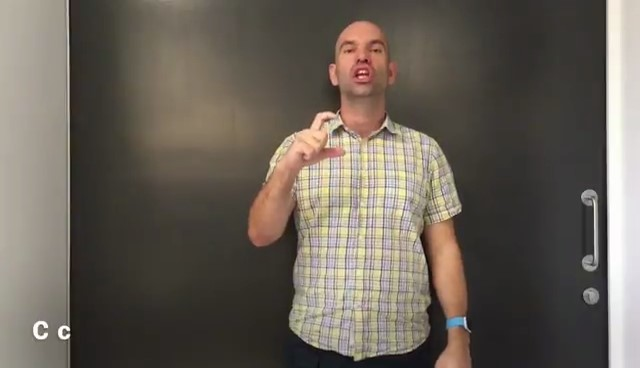C: (285, 102, 354, 172)
